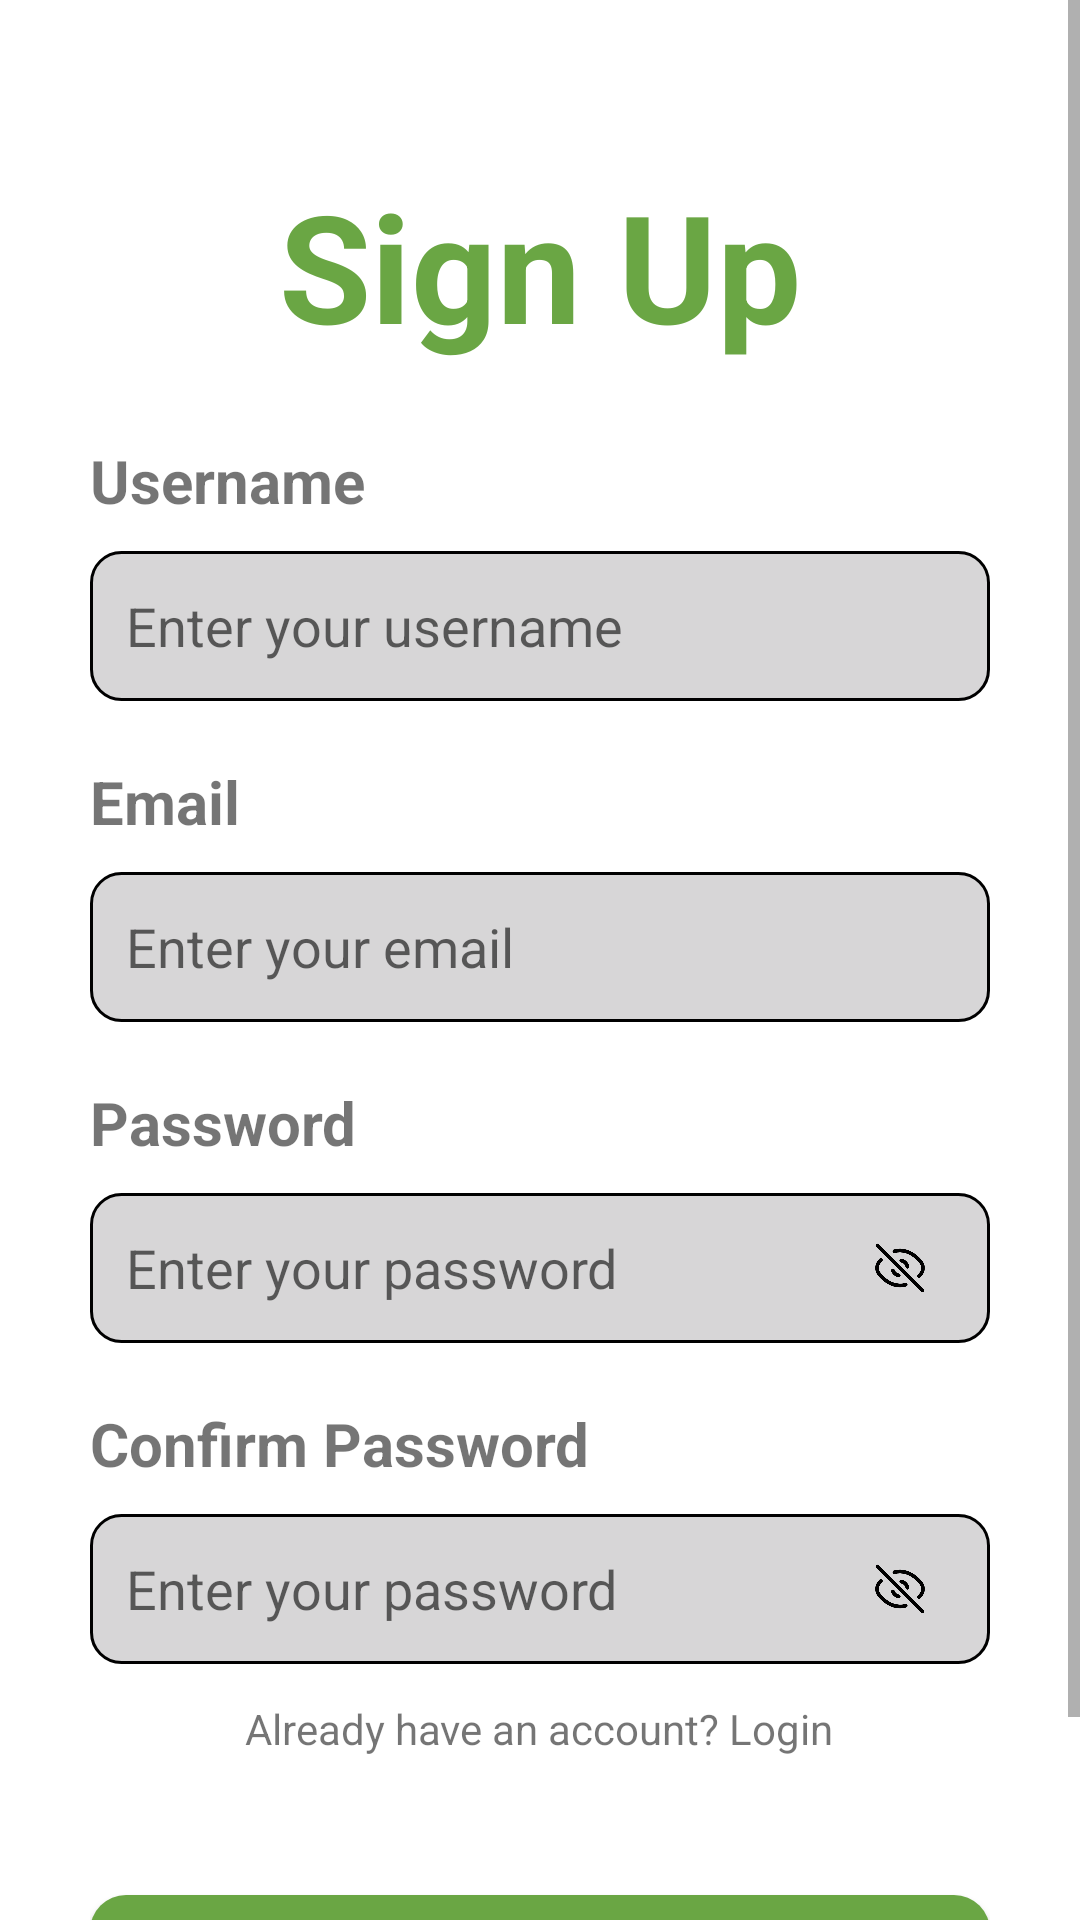

Screen size 1080×1920. Icon name, then its center in pixels as [x,y]:
Toggle Visibility: [900,1268], [900,1589]
